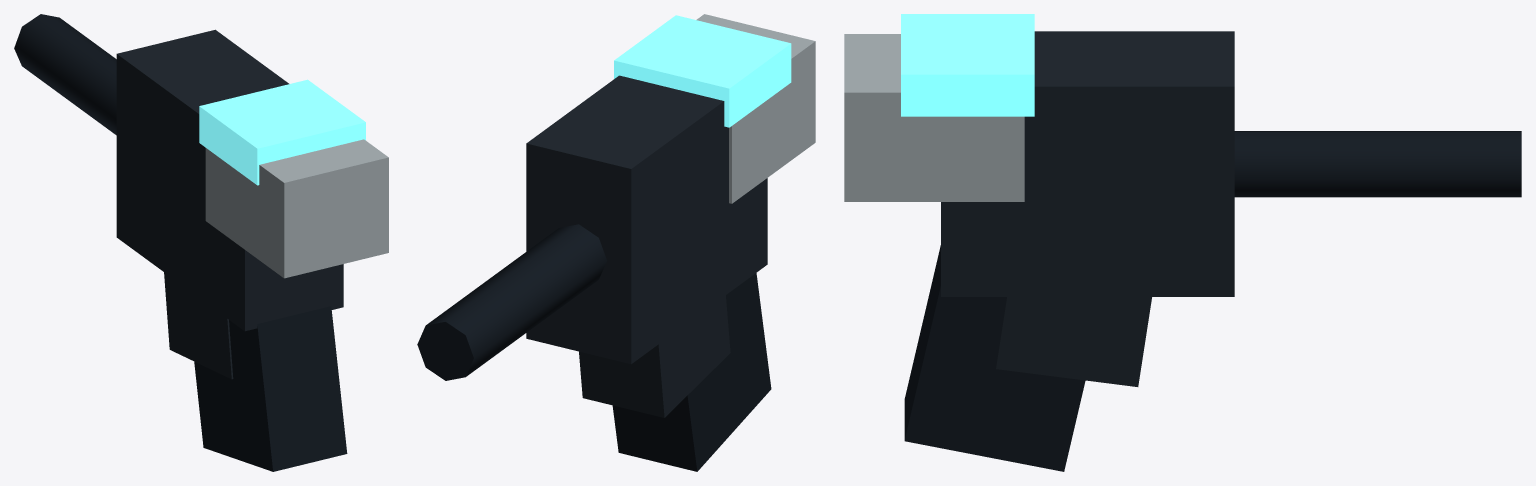
Rendered from np_z05_pistolet_ameliore.glb.
The picture shows the model from 3 angles, left to right: view 1: azimuth 30°, elevation 25°; view 2: azimuth 150°, elevation 25°; view 3: azimuth 270°, elevation 25°; orthographic projection. The views are drawn at different scales.
Visible parts, largest first — view 1: Corps, Culasse, Poignee, ModuleAmeliore, Canon, Chargeur; view 2: Corps, Canon, Poignee, ModuleAmeliore, Chargeur, Culasse; view 3: Corps, Poignee, Culasse, Canon, ModuleAmeliore, Chargeur.
Part boxes in pixels (<box>): Corps: <box>116,29,343,331</box>; Culasse: <box>205,139,388,278</box>; Poignee: <box>194,306,347,471</box>; ModuleAmeliore: <box>199,79,365,185</box>; Canon: <box>14,14,116,135</box>; Chargeur: <box>164,272,233,379</box>; Corps: <box>526,75,767,364</box>; Canon: <box>417,224,606,380</box>; Poignee: <box>612,273,771,471</box>; ModuleAmeliore: <box>614,15,791,127</box>; Chargeur: <box>579,295,730,417</box>; Culasse: <box>696,14,815,203</box>; Corps: <box>941,31,1234,296</box>; Poignee: <box>904,245,1085,471</box>; Culasse: <box>844,34,1024,201</box>; Canon: <box>1234,131,1521,197</box>; ModuleAmeliore: <box>901,14,1034,116</box>; Chargeur: <box>996,297,1151,386</box>.
Bounding box in the file's own units: 0.099 × 0.3095 × 0.4669.
